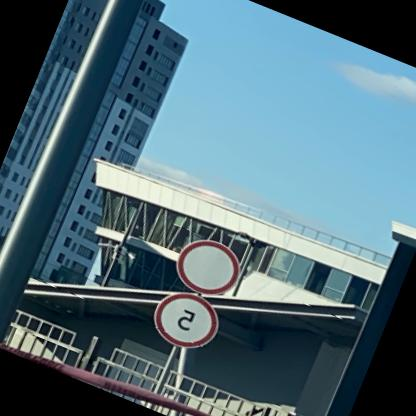speedlimit: (150, 282, 230, 356)
